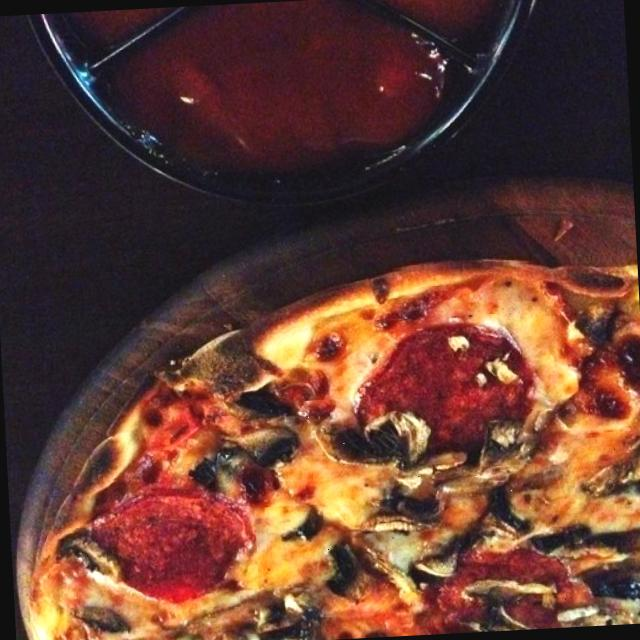mushrooms: (301, 394, 443, 496), (432, 398, 530, 506), (437, 473, 548, 562), (447, 494, 544, 568), (214, 412, 308, 487), (456, 409, 544, 485), (564, 556, 640, 627), (47, 526, 124, 596), (572, 435, 640, 509), (366, 497, 446, 557), (319, 528, 373, 616), (406, 528, 471, 592), (240, 586, 315, 640), (458, 583, 540, 631), (264, 504, 326, 557), (57, 596, 128, 640)
pepperoni: (340, 312, 526, 466), (78, 472, 260, 613), (406, 526, 577, 636)
pizza: (37, 262, 640, 640)
